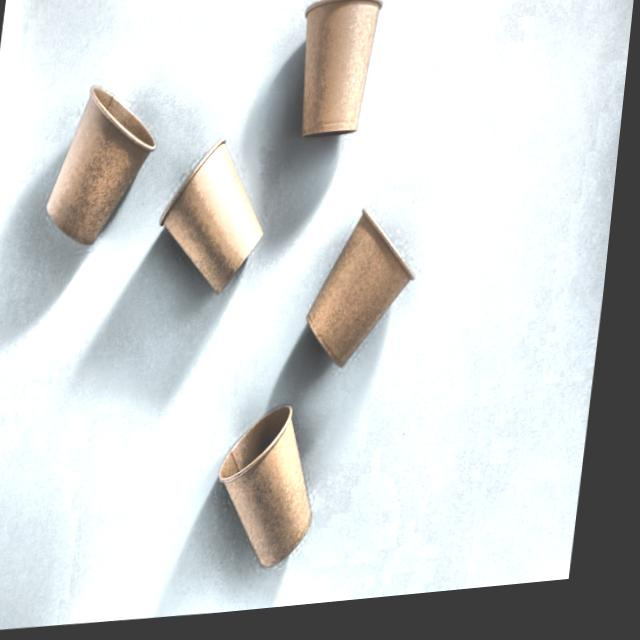Cup: (208, 389, 343, 593), (42, 74, 161, 277), (308, 202, 432, 392), (151, 128, 277, 313), (294, 0, 384, 155)
